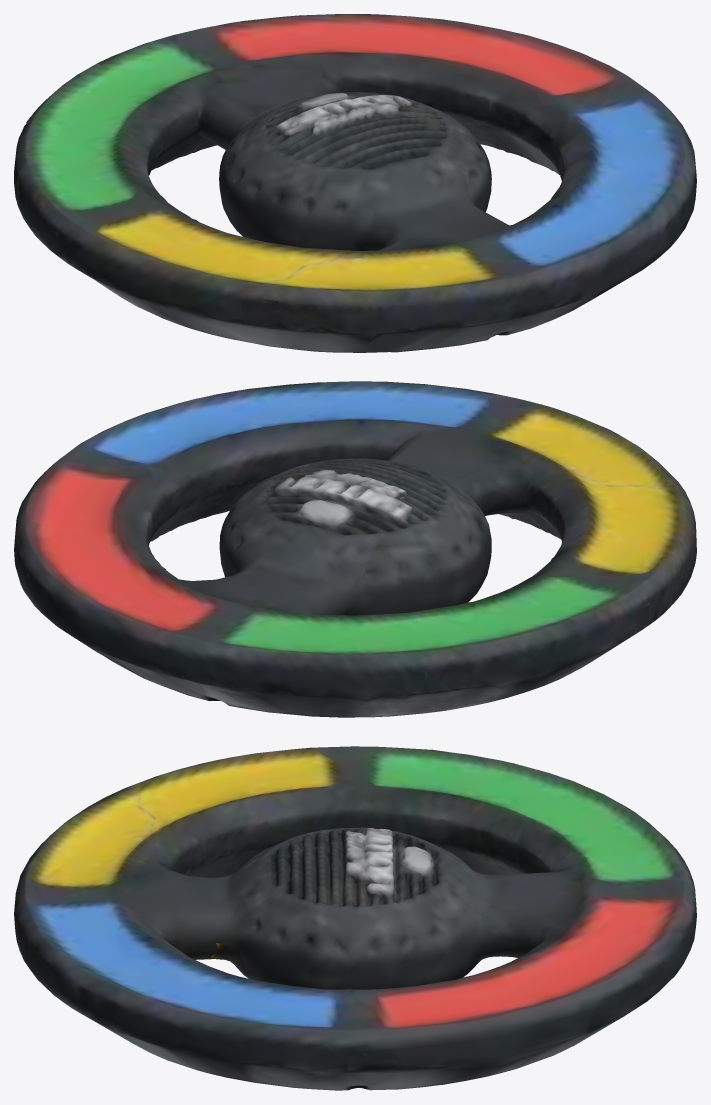
The model's file is Simon_Swipe_Game-high.glb.
3 renders of one model, top to bottom at view 1: azimuth 30°, elevation 25°; view 2: azimuth 150°, elevation 25°; view 3: azimuth 270°, elevation 25°, orthographic.
Parts seen in each view (by area): view 1: Simon_Swipe_Game; view 2: Simon_Swipe_Game; view 3: Simon_Swipe_Game.
Boxes of the visible parts, box(x1,y1,x2,y2) form: Simon_Swipe_Game: box(14, 14, 696, 352); Simon_Swipe_Game: box(14, 381, 696, 717); Simon_Swipe_Game: box(14, 746, 696, 1090).
Size of the model in its own units: 0.2291 by 0.0476 by 0.2289.
Materials: 1 (1 with a texture image).
